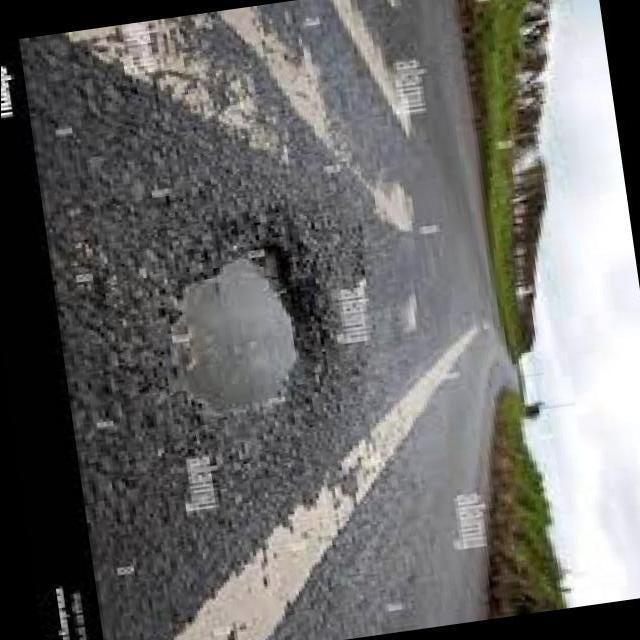pothole: (172, 244, 299, 409), (181, 246, 306, 406), (0, 66, 14, 118)
